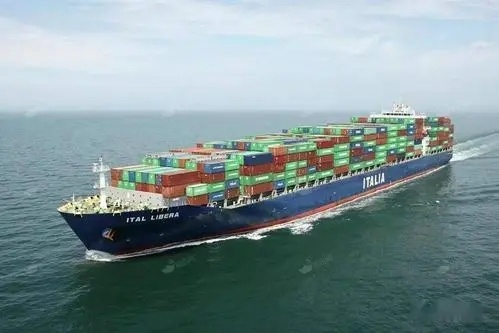Cargoship: (46, 98, 459, 258)
